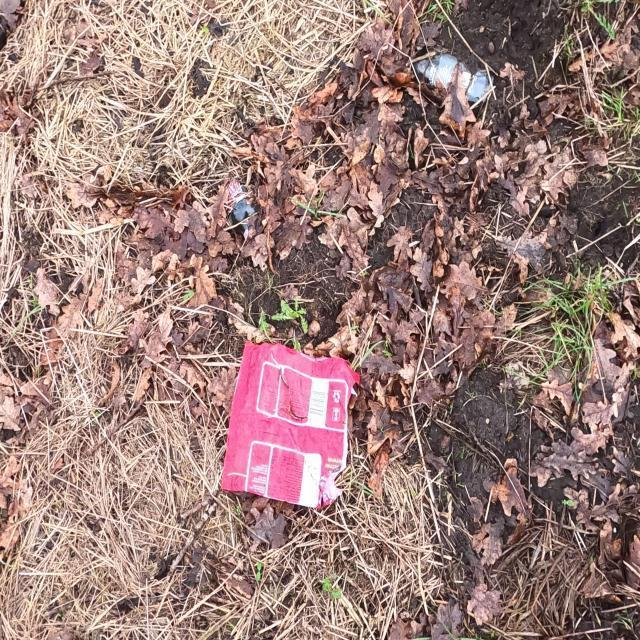Can-Metal: (394, 36, 494, 114)
